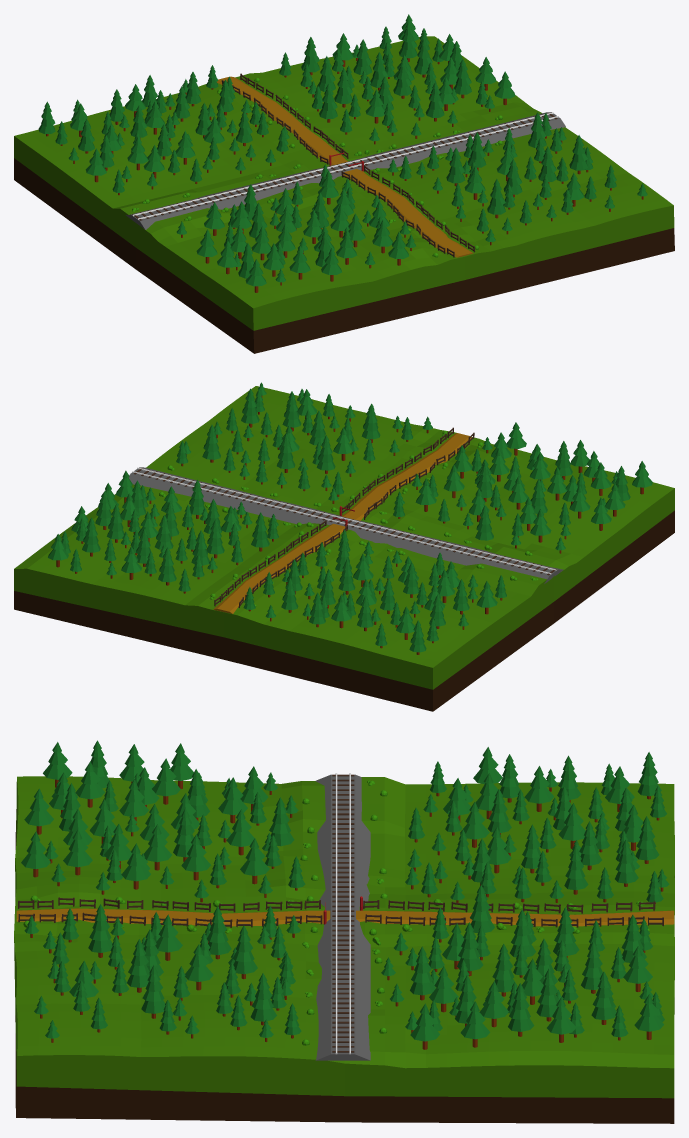
The model's file is train_scene.fbx.
3 views of the same model, one above another, from view 1: azimuth 30°, elevation 25°; view 2: azimuth 150°, elevation 25°; view 3: azimuth 270°, elevation 25° (orthographic). The views are drawn at different scales.
Visible parts, largest first — view 1: ground, train_ground, road, train_planks, train_track_front, train_track_back; view 2: ground, train_ground, road, train_planks, train_track_back, train_track_front; view 3: ground, train_ground, road, train_planks, train_track_back, Cone.100, Cone.091, Cone.090, Cone.086, Cone.082, Cone.084, Cone.085 (+50 smaller).
Boxes of the visible parts, x1,y1,x2,y2 form: ground: (14,36,674,353); train_ground: (125,112,565,229); road: (217,76,473,257); train_planks: (132,112,557,220); train_track_front: (132,112,553,216); train_track_back: (137,116,558,219); ground: (14,386,674,711); train_ground: (129,467,563,583); road: (213,433,471,613); train_planks: (134,468,556,575); train_track_back: (137,467,556,570); train_track_front: (132,471,551,574); ground: (14,776,674,1123); train_ground: (315,774,370,1060); road: (16,908,674,926); train_planks: (332,774,354,1052); train_track_back: (335,773,337,1054); Cone.100: (410,946,435,1000); Cone.091: (508,983,534,1036); Cone.090: (591,971,616,1024); Cone.086: (88,904,112,957); Cone.082: (141,965,165,1018); Cone.084: (250,973,276,1025); Cone.085: (232,925,257,979).
Bounding box in the file's own units: 20093 × 4337 × 19962.
